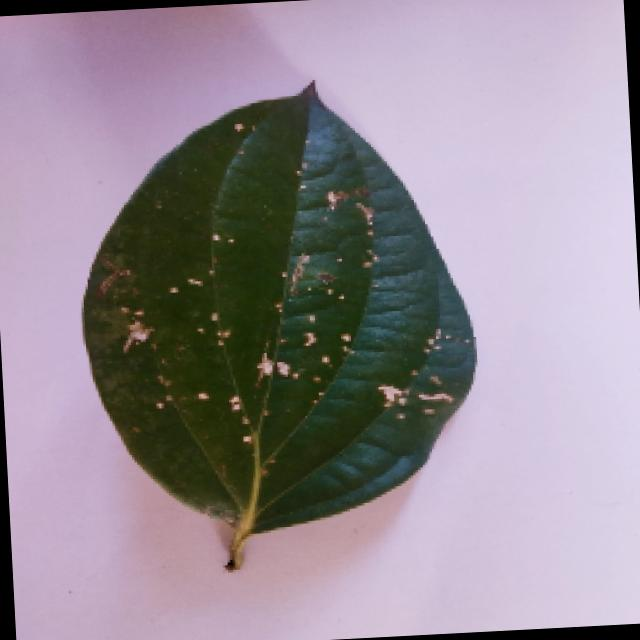pollu-disease: (50, 72, 502, 581)
